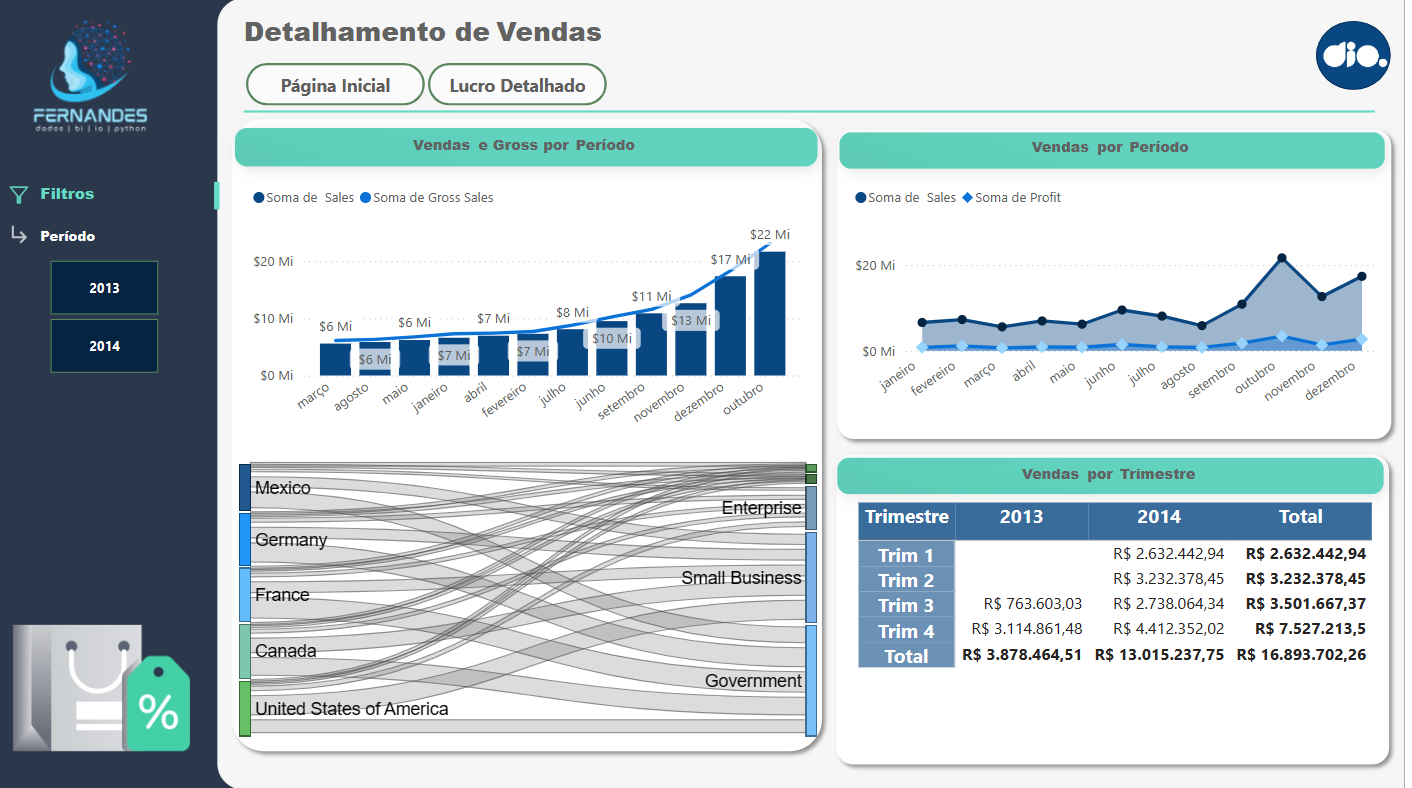

The page's visual inventory and layout, read from the dashboard file:
{"tool":"powerbi","page":{"name":"Vendas","canvas":[1280,720],"ordinal":2},"visuals":[{"type":"actionButton","box":[226.9,57.1,162.7,38.5],"z":0},{"type":"actionButton","box":[392.4,57.1,162.7,38.5],"z":1000},{"type":"slicer","fields":{"Values":["financials.Year"]},"box":[22.8,229.7,148.4,115.6],"z":2000},{"type":"shape","box":[1200.1,19.4,67.9,62.6],"z":3000},{"type":"image","title":"logo_dio","box":[1201.5,20,68.5,58.5],"z":4000},{"type":"lineClusteredColumnComboChart","title":"Vendas e Gross x Período","fields":{"Y":["financials. Sales"],"Y2":["financials.Gross Sales"],"Category":["financials.Date.Variation.Hierarquia de datas.Mês"]},"box":[227.2,159.8,509.6,247.5],"z":5000},{"type":"areaChart","title":"Vendas por Período","fields":{"Y":["financials. Sales","financials.Profit"],"Category":["financials.Date.Variation.Hierarquia de datas.Mês"]},"box":[775.3,160.2,486.1,228.2],"z":6000},{"type":"pivotTable","fields":{"Columns":["financials.Year"],"Values":["financials.Profit"],"Rows":["financials.Date.Variation.Hierarquia de datas.Trimestre"]},"box":[779.1,452.4,478,234],"z":7000},{"type":"sankey02300D1BE6F5427989F3DE31CCA9E0F32020","fields":{"Source":["financials.Country"],"Weight":["financials. Sales"],"Destination":["financials.Segment"]},"box":[205.6,407.3,566.8,279.5],"z":8000}]}

Visuals, with their boxes in screenshot pixels (x1, y1, x2, y2), scaled from the page's 1280x720 canvas onto the 1412x788 screenshot:
actionButton: bbox(250, 62, 430, 105)
actionButton: bbox(433, 62, 612, 105)
slicer - financials.Year: bbox(25, 251, 189, 378)
shape: bbox(1324, 21, 1399, 90)
"logo_dio" image: bbox(1325, 22, 1401, 86)
"Vendas e Gross x Período" lineClusteredColumnComboChart: bbox(251, 175, 813, 446)
"Vendas por Período" areaChart: bbox(855, 175, 1391, 425)
pivotTable - financials.Year x financials.Profit: bbox(859, 495, 1387, 751)
sankey02300D1BE6F5427989F3DE31CCA9E0F32020 - financials.Country x financials. Sales: bbox(227, 446, 852, 752)
